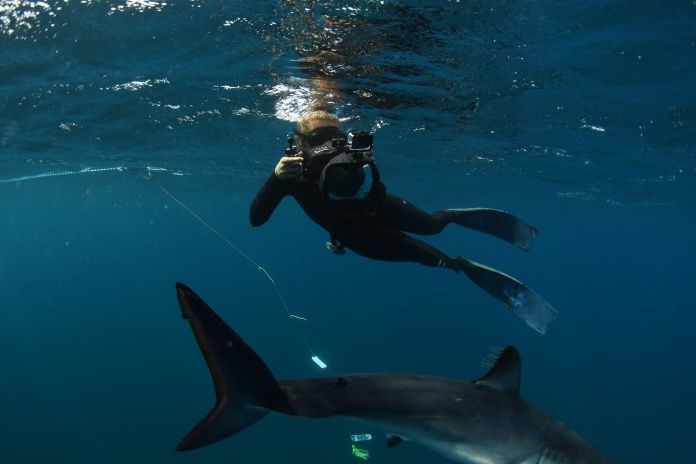Mako: (158, 267, 641, 464)
